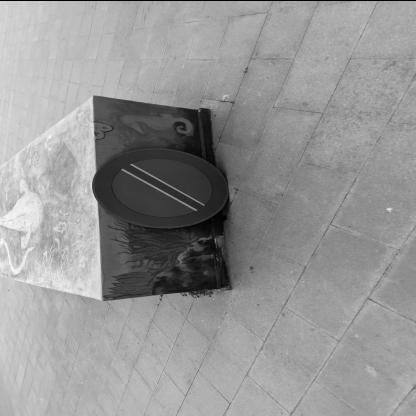No Waiting: (93, 149, 229, 227)
